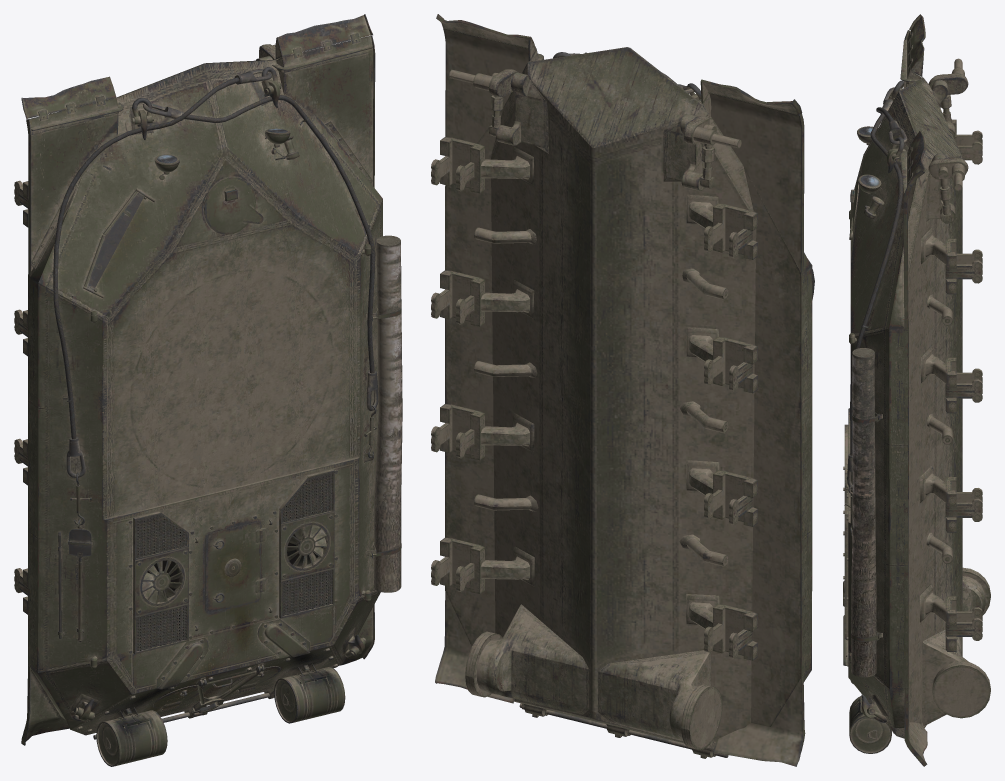
File: Hull.glb
3 views of the same model, side by side, from view 1: azimuth 30°, elevation 25°; view 2: azimuth 150°, elevation 25°; view 3: azimuth 270°, elevation 25° (orthographic). The views are drawn at different scales.
Parts seen in each view (by area): view 1: set_0_group_0; view 2: set_0_group_0; view 3: set_0_group_0.
Boxes of the visible parts, x1,y1,x2,y2 form: set_0_group_0: (14, 14, 402, 766); set_0_group_0: (431, 14, 814, 766); set_0_group_0: (843, 14, 990, 766).
Bounding box in the file's own units: 3.59 × 6.48 × 1.42.
Materials: 1 (1 with a texture image).
